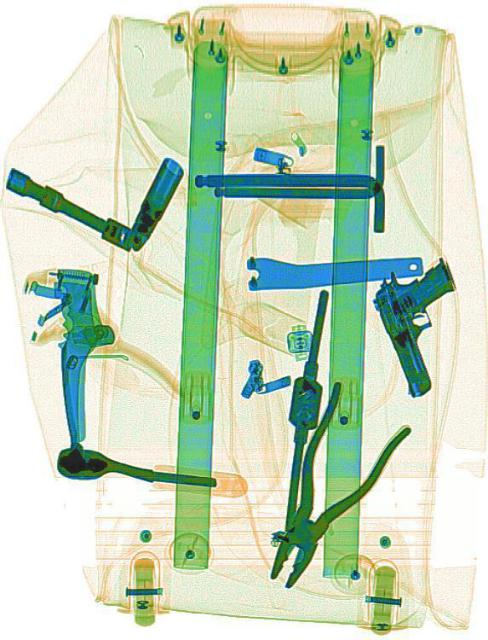Gun: (364, 242, 483, 401)
Pliers: (240, 372, 409, 612)
